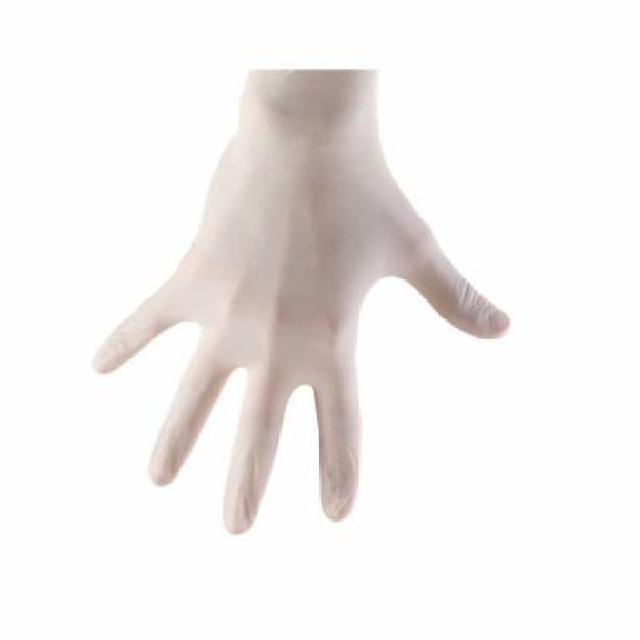gloved_hand: (88, 63, 510, 534)
